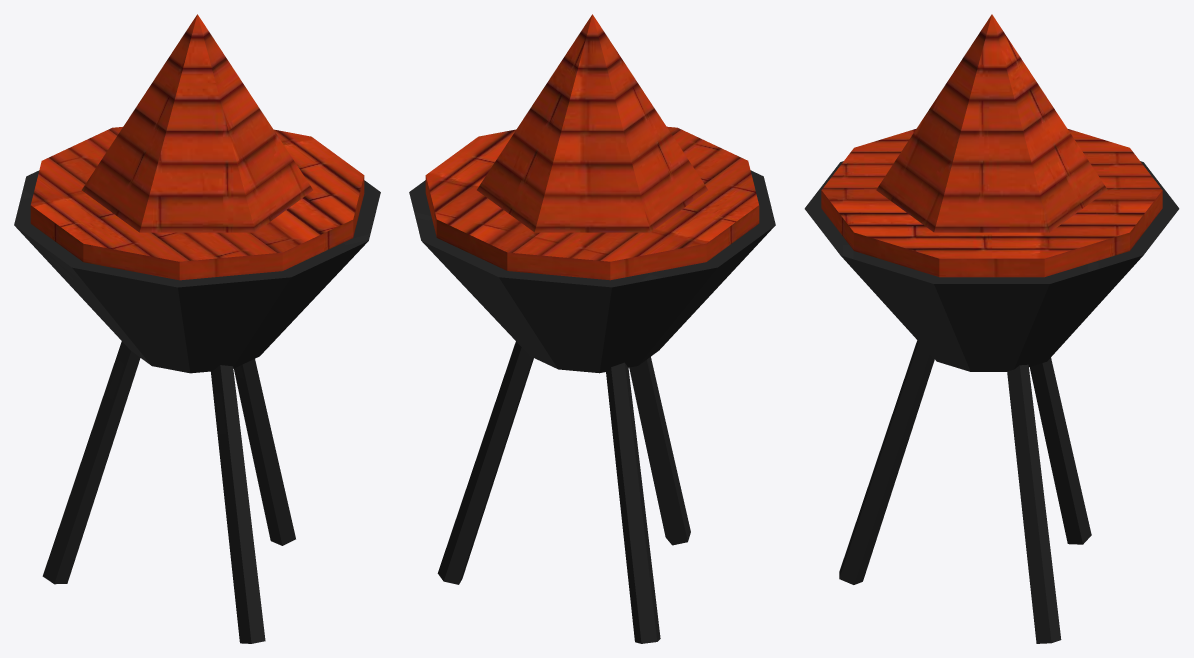
Rendered from brazier_01.glb.
The picture shows the model from 3 angles, left to right: view 1: azimuth 30°, elevation 25°; view 2: azimuth 150°, elevation 25°; view 3: azimuth 270°, elevation 25°; orthographic projection.
Parts seen in each view (by area): view 1: brazier_01; view 2: brazier_01; view 3: brazier_01.
Boxes of the visible parts, bbox=[...] form: brazier_01: bbox=[14, 14, 380, 643]; brazier_01: bbox=[409, 14, 775, 643]; brazier_01: bbox=[804, 14, 1179, 643].
Bounding box in the file's own units: 1.05 × 1.86 × 1.1.
2 materials, 2 textured.
